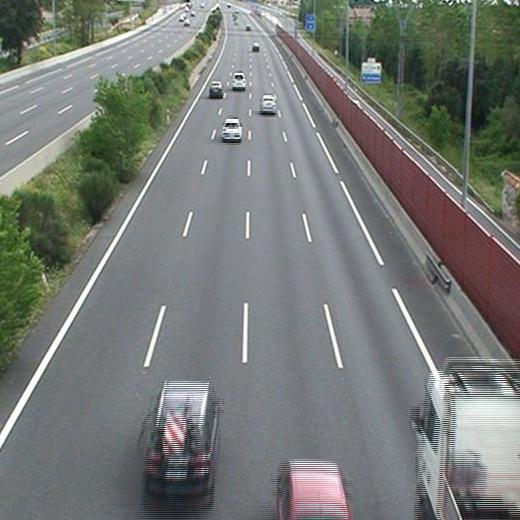car: (145, 382, 215, 482), (222, 119, 243, 140), (261, 95, 277, 112), (208, 82, 223, 96), (232, 73, 245, 87)
